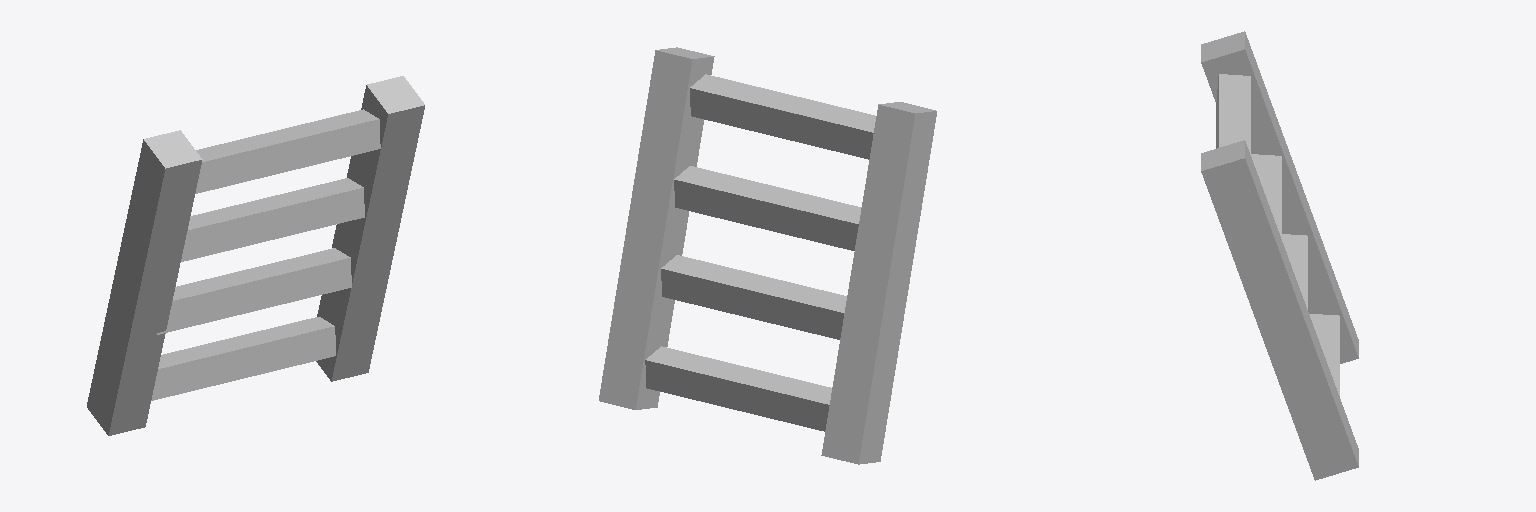
Rendered from fu_ti_block_middle.obj.
3 views of the same model, side by side, from view 1: azimuth 30°, elevation 25°; view 2: azimuth 150°, elevation 25°; view 3: azimuth 270°, elevation 25° (orthographic).
Visible parts, largest first — view 1: cube6, cube7, cube9, cube11, cube8, cube10; view 2: cube6, cube7, cube10, cube8, cube11, cube9; view 3: cube7, cube6, cube11, cube10, cube8, cube9.
Boxes of the visible parts, x1,y1,x2,y2 form: cube6: [87, 130, 202, 435]; cube7: [316, 76, 424, 381]; cube9: [157, 248, 351, 334]; cube11: [195, 109, 380, 193]; cube8: [151, 317, 335, 400]; cube10: [181, 178, 364, 261]; cube6: [821, 102, 936, 464]; cube7: [599, 47, 714, 409]; cube10: [674, 166, 861, 250]; cube8: [645, 346, 831, 431]; cube11: [690, 74, 875, 159]; cube9: [661, 255, 846, 339]; cube7: [1201, 140, 1358, 480]; cube6: [1201, 31, 1358, 363]; cube11: [1216, 74, 1250, 154]; cube10: [1251, 154, 1281, 238]; cube8: [1309, 314, 1339, 395]; cube9: [1282, 234, 1307, 309].
Bounding box in the file's own units: 0.875 × 1.04 × 0.4602.